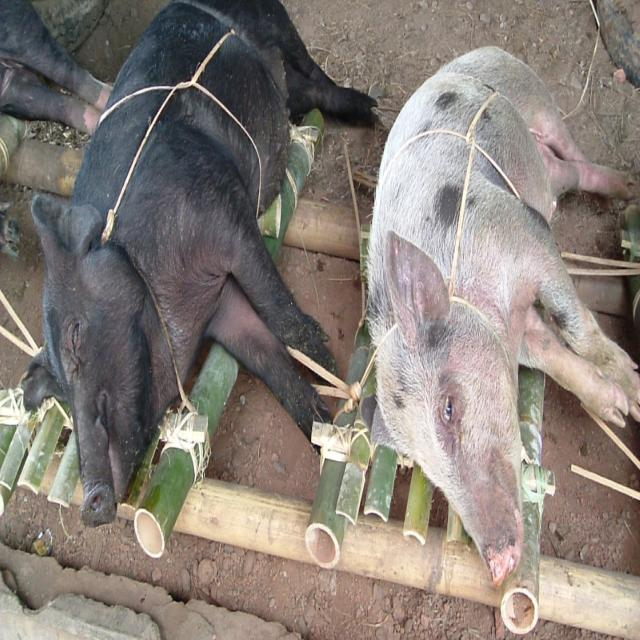pig: (22, 0, 378, 528), (364, 47, 640, 587), (0, 0, 113, 134)
